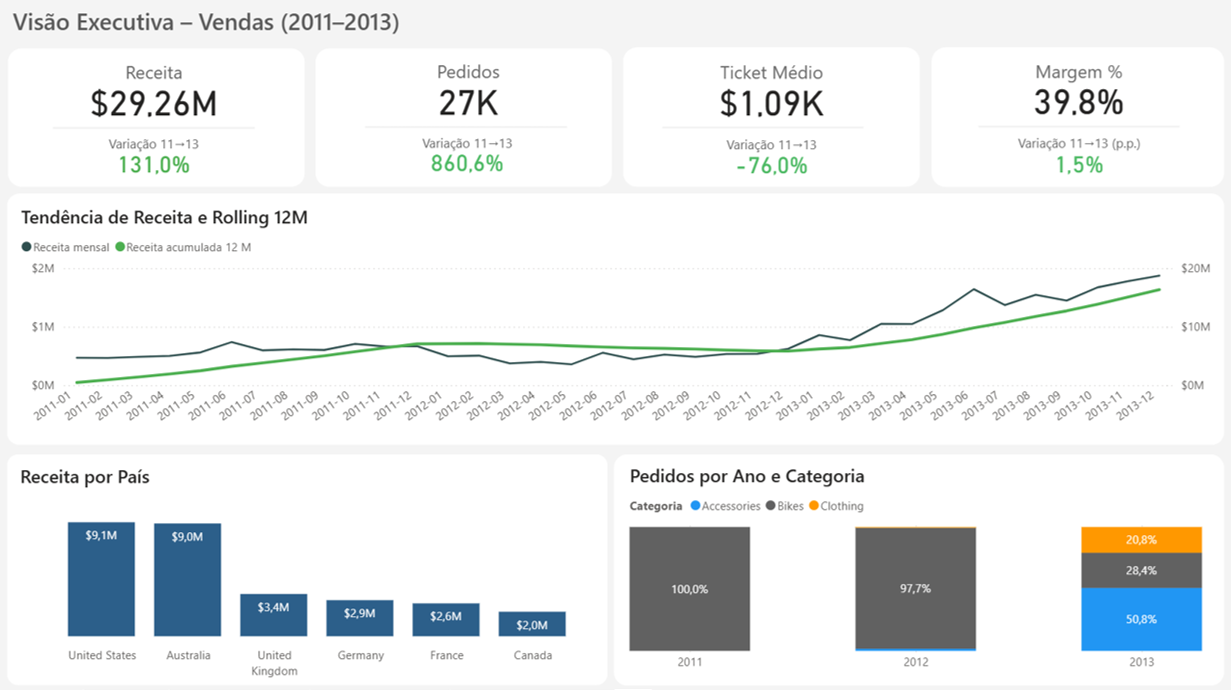

This screenshot's page, from the dashboard's own definition file:
{"tool":"powerbi","page":{"name":"Executiva","canvas":[1280,720],"ordinal":0},"visuals":[{"type":"shape","box":[9.9,205.9,1258.2,260],"z":0,"group":"g3"},{"type":"group","id":"g1","title":"Group 2","box":[9.8,474.9,621.4,239.1],"z":0},{"type":"shape","box":[636.8,474.9,631.2,239.5],"z":0,"group":"g2"},{"type":"shape","box":[10.4,55.1,307,143.4],"z":1000},{"type":"lineChart","title":"Tendência de Receita e Rolling 12M","fields":{"Y":["00_Measures.Total Sales (Safe)"],"Y2":["00_Measures.Sales Rolling 12M"],"Category":["date_dim.Year Month"]},"box":[19.8,216.9,1240.6,246.8],"z":1000,"group":"g3"},{"type":"shape","box":[9.8,474.9,621,239.1],"z":1000,"group":"g1"},{"type":"shape","box":[328.9,55.1,306.6,143.4],"z":2000},{"type":"shape","box":[647,53.9,307,144.3],"z":3000},{"type":"shape","box":[965.5,54,302.4,144.5],"z":4000},{"type":"clusteredColumnChart","title":"Receita por País","fields":{"Category":["gold dim_customers.country"],"Y":["00_Measures.Total Sales (Safe)"]},"box":[18.5,484.5,611.8,229.8],"z":4000,"group":"g1"},{"type":"group","id":"g2","title":"Group 3","box":[636.8,474.9,631.3,239.1],"z":5000},{"type":"card","title":"Variação 11→13","fields":{"Values":["00_Measures.KPI_Receita_delta_first_last %"]},"box":[9.5,144.1,303.9,47.3],"z":6000},{"type":"card","title":"Variação 11→13","fields":{"Values":["00_Measures.KPI_Orders_delta_first_last %"]},"box":[333.6,143.4,304.5,46.8],"z":7000},{"type":"hundredPercentStackedColumnChart","title":"Pedidos por Ano e Categoria","fields":{"Category":["date_dim.Year"],"Series":["gold dim_products.category"],"Y":["00_Measures.Order Count (Safe)"]},"box":[648.8,483.8,601.6,224.9],"z":7000,"group":"g2"},{"type":"card","title":"Variação 11→13","fields":{"Values":["00_Measures.KPI_AOV_delta_firsst_last %"]},"box":[648.5,145.5,303.5,47.8],"z":8000},{"type":"card","title":"Variação 11→13 (p.p.)","fields":{"Values":["00_Measures.KPI_GM%_delta_first_last"]},"box":[966.5,143.4,303.5,48.8],"z":9000},{"type":"group","id":"g3","title":"Group 4","box":[9.9,205.9,1258.2,260],"z":10000},{"type":"card","title":"Receita","fields":{"Values":["00_Measures.Total Sales (Safe)"]},"box":[9.5,66.7,304,64],"z":11000},{"type":"card","title":"Pedidos","fields":{"Values":["00_Measures.Order Count (Safe)"]},"box":[334.6,65.5,304.5,64.4],"z":12000},{"type":"card","title":"Ticket Médio","fields":{"Values":["00_Measures.Average Order Value"]},"box":[648.5,66.5,303.5,64.4],"z":13000},{"type":"card","title":"Margem %","fields":{"Values":["00_Measures.Gross Margin %"]},"box":[965.5,65.5,304.5,63.4],"z":14000},{"type":"textbox","box":[10.6,10.6,510.8,64.4],"z":15000},{"type":"shape","box":[57.2,129.9,208.9,15.6],"z":16000},{"type":"shape","box":[380.4,128.9,208.9,15.6],"z":17000},{"type":"shape","box":[687,128.9,207.9,16.6],"z":18000},{"type":"shape","box":[1013.7,128,207.9,16.6],"z":19000}]}

Visuals, with their boxes in screenshot pixels (x1, y1, x2, y2), scaled from the page's 1280x720 canvas onto the 1231x690 screenshot:
shape: Rect(10, 197, 1220, 446)
"Group 2" group: Rect(9, 455, 607, 684)
shape: Rect(612, 455, 1219, 685)
shape: Rect(10, 53, 305, 190)
"Tendência de Receita e Rolling 12M" lineChart: Rect(19, 208, 1212, 444)
shape: Rect(9, 455, 607, 684)
shape: Rect(316, 53, 611, 190)
shape: Rect(622, 52, 917, 190)
shape: Rect(929, 52, 1219, 190)
"Receita por País" clusteredColumnChart: Rect(18, 464, 606, 685)
"Group 3" group: Rect(612, 455, 1220, 684)
"Variação 11→13" card: Rect(9, 138, 301, 183)
"Variação 11→13" card: Rect(321, 137, 614, 182)
"Pedidos por Ano e Categoria" hundredPercentStackedColumnChart: Rect(624, 464, 1203, 679)
"Variação 11→13" card: Rect(624, 139, 916, 185)
"Variação 11→13 (p.p.)" card: Rect(930, 137, 1221, 184)
"Group 4" group: Rect(10, 197, 1220, 446)
"Receita" card: Rect(9, 64, 301, 125)
"Pedidos" card: Rect(322, 63, 615, 124)
"Ticket Médio" card: Rect(624, 64, 916, 125)
"Margem %" card: Rect(929, 63, 1221, 124)
textbox: Rect(10, 10, 501, 72)
shape: Rect(55, 124, 256, 139)
shape: Rect(366, 124, 567, 138)
shape: Rect(661, 124, 861, 139)
shape: Rect(975, 123, 1175, 139)
